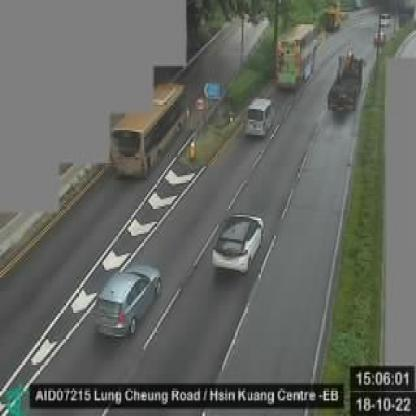Bus: (110, 83, 188, 178), (275, 21, 323, 89)
Car: (93, 266, 163, 342), (209, 214, 267, 276), (242, 94, 274, 140)
Truck: (326, 50, 365, 117)
